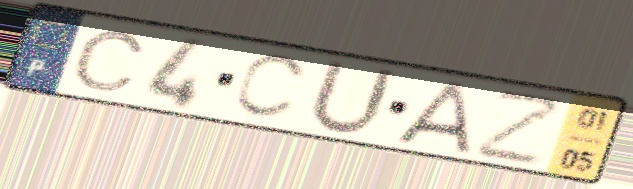4: (142, 33, 204, 113)
A: (391, 78, 474, 156)
C: (229, 53, 314, 123), (68, 28, 150, 93)
U: (303, 55, 400, 138)
Z: (472, 89, 571, 169)
